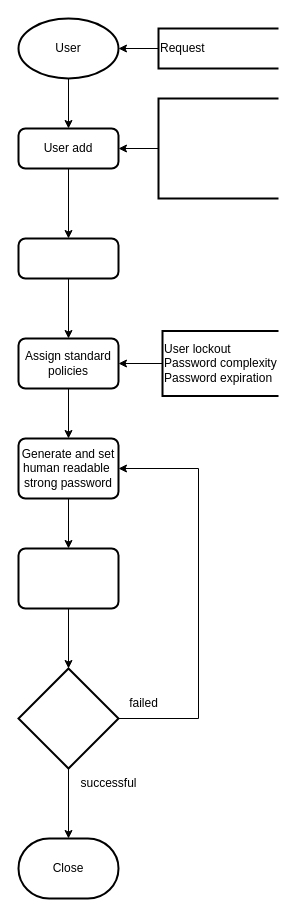
Image size: 296x916. Some labels were removed from this diagram. The shapes that lost their labels are listed below. From the top down, each one's centre as x and y in pixels, then its label:
[218,148]: Name Surname Phone number Role Business Unit List of allowed IAMS
[68,258]: Assign standard roles
[68,578]: Send password to the user via SMS
[68,718]: First login?
